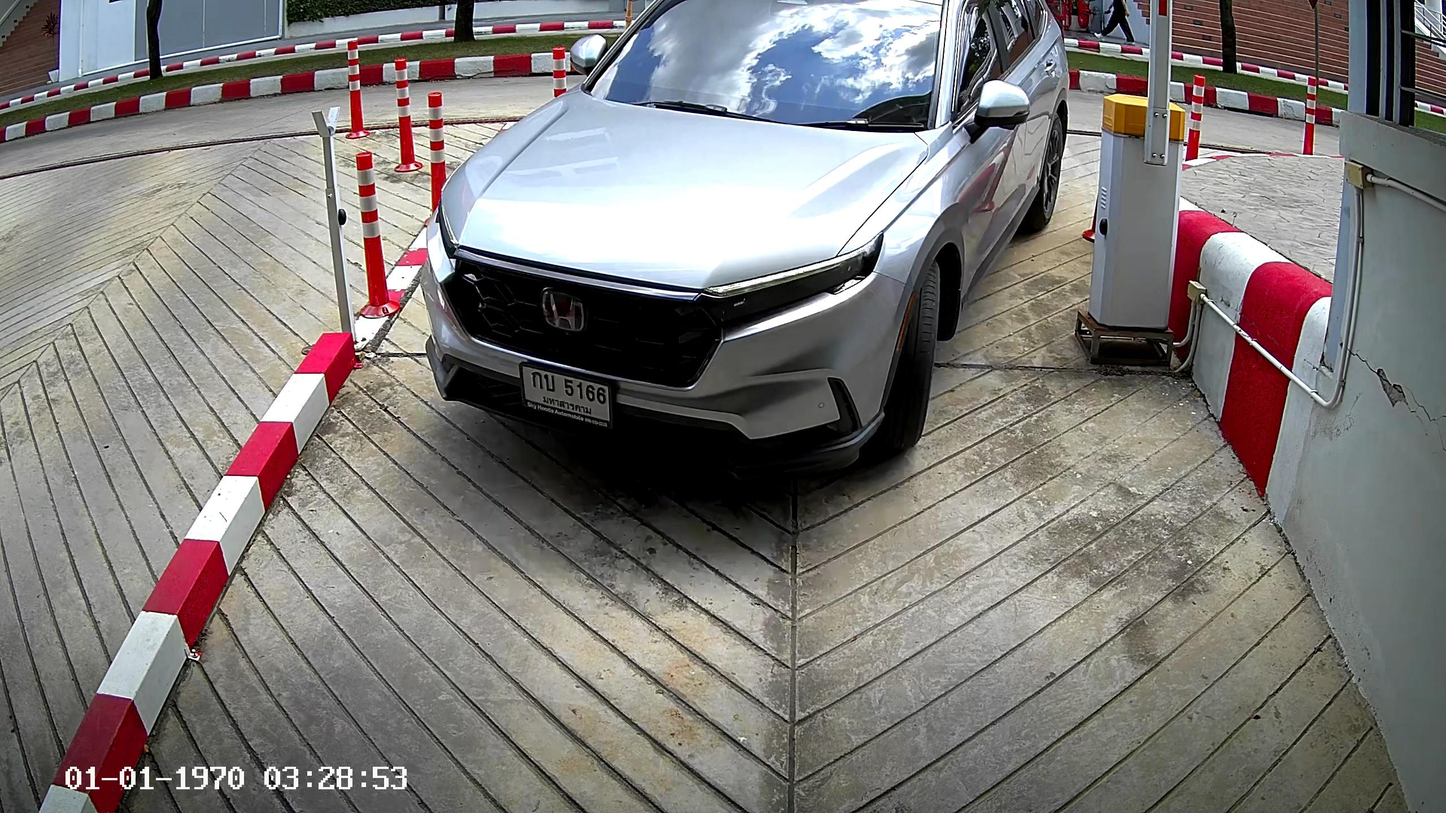car: (422, 3, 1068, 481)
license-plate: (519, 356, 617, 433)
